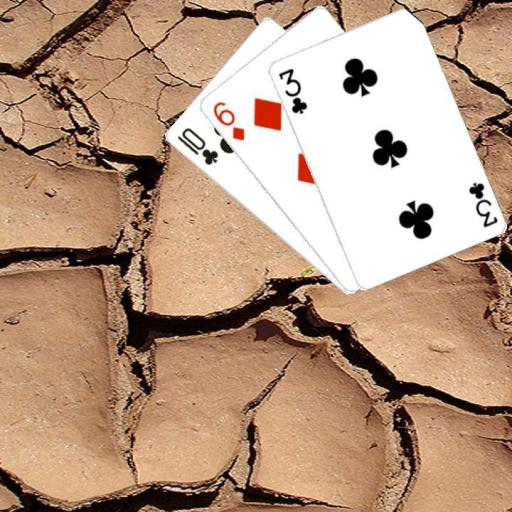10C: (174, 125, 220, 167)
3C: (275, 65, 309, 116), (465, 178, 499, 229)
6D: (209, 98, 246, 142)
